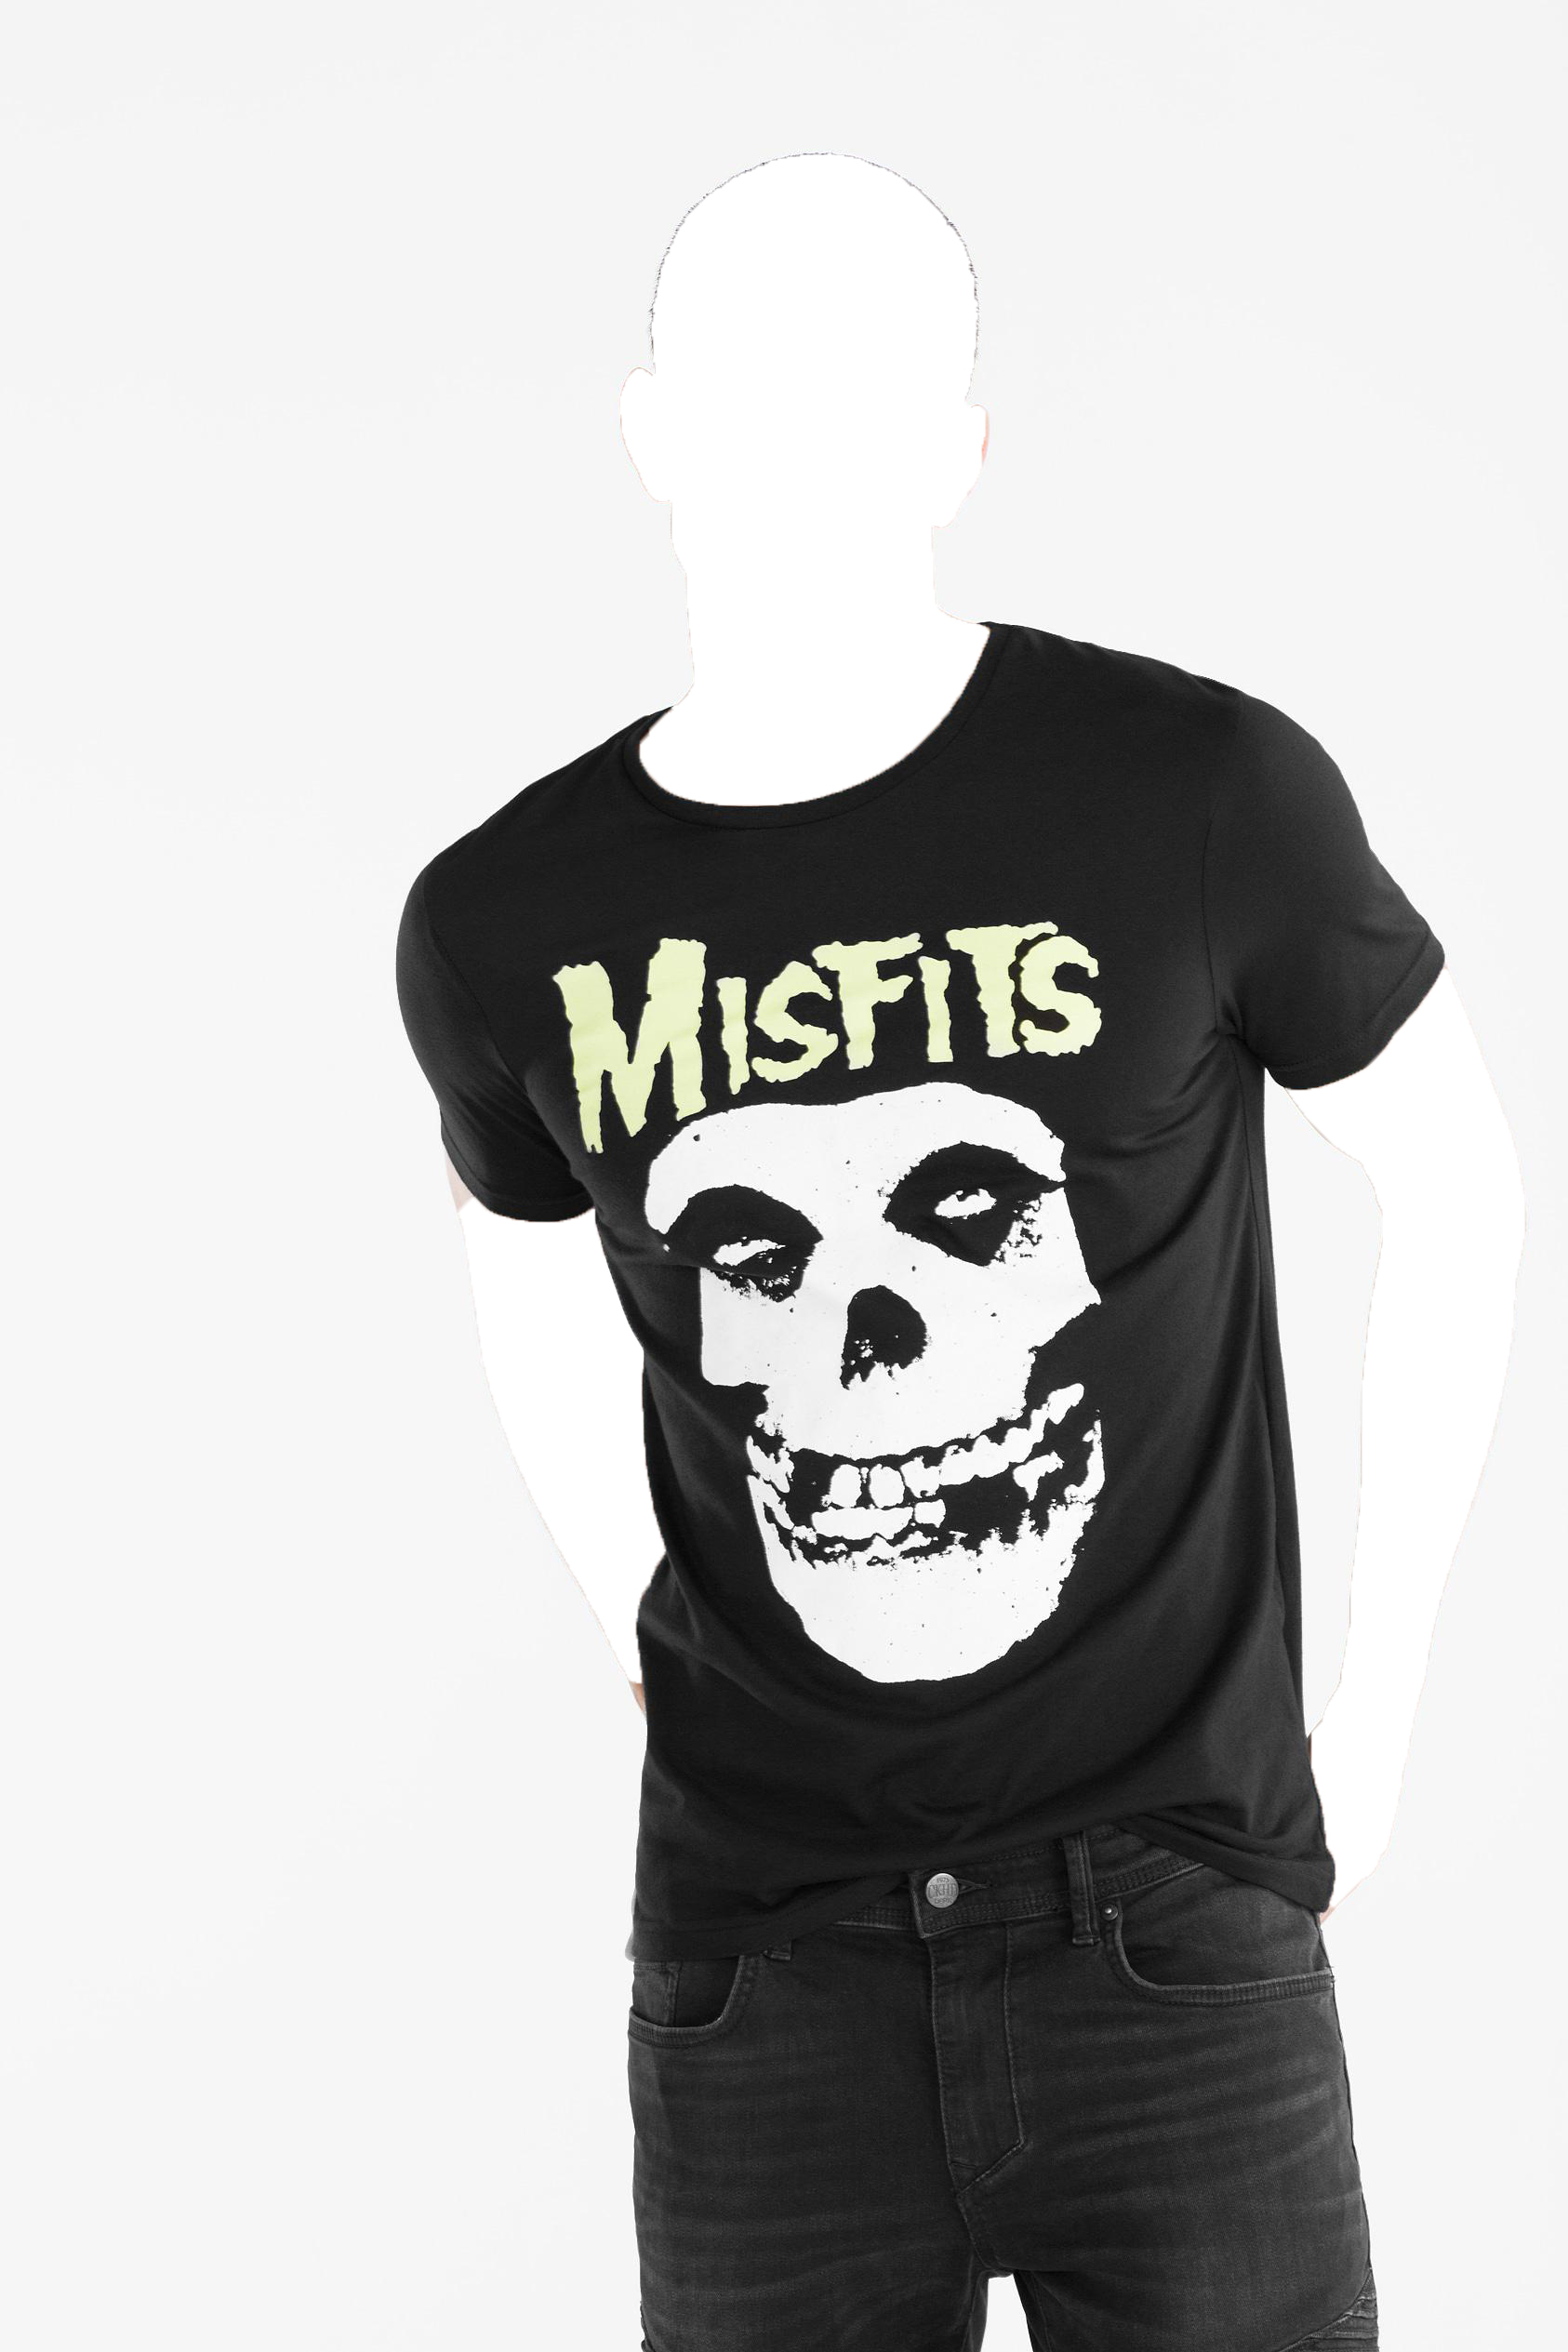teeshirt: (371, 621, 1468, 1934)
